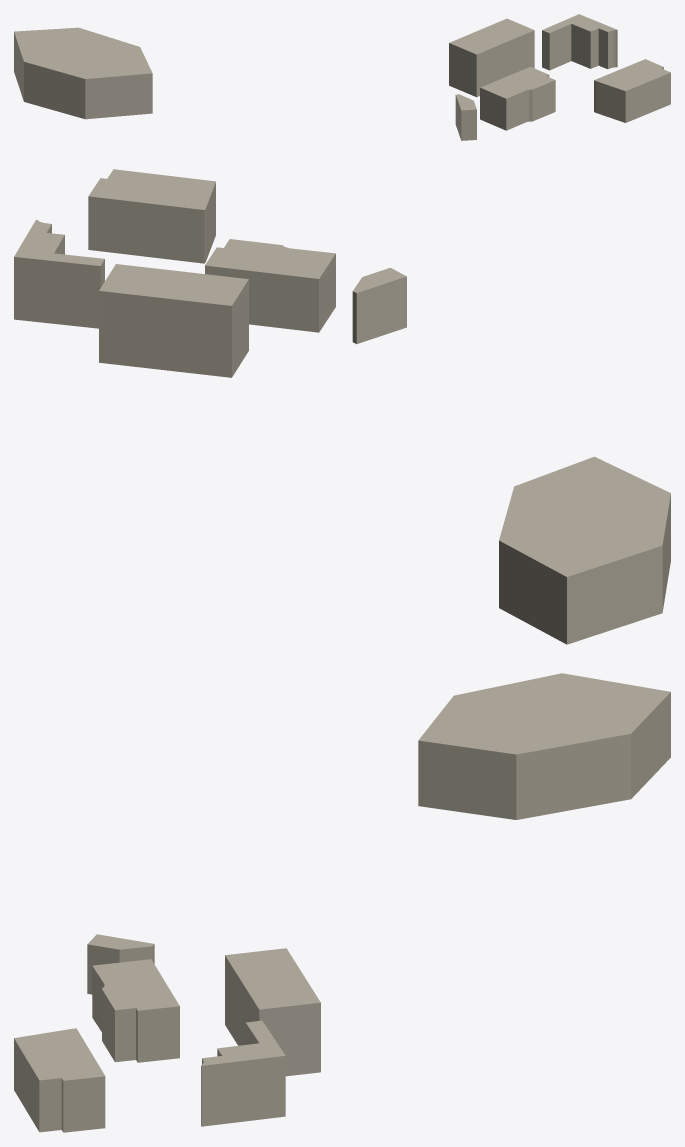
Rendered from kalkara_63_24_mid.glb.
3 renders of one model, top to bottom at view 1: azimuth 30°, elevation 25°; view 2: azimuth 150°, elevation 25°; view 3: azimuth 270°, elevation 25°, orthographic. The views are drawn at different scales.
Visible parts, largest first — view 1: geometry_0; view 2: geometry_0; view 3: geometry_0.
Part boxes in pixels (x1,y1,x2,y2): geometry_0: (14, 14, 670, 140); geometry_0: (14, 169, 670, 644); geometry_0: (14, 673, 670, 1132).
Size of the model in its own units: 171 by 15.62 by 122.
